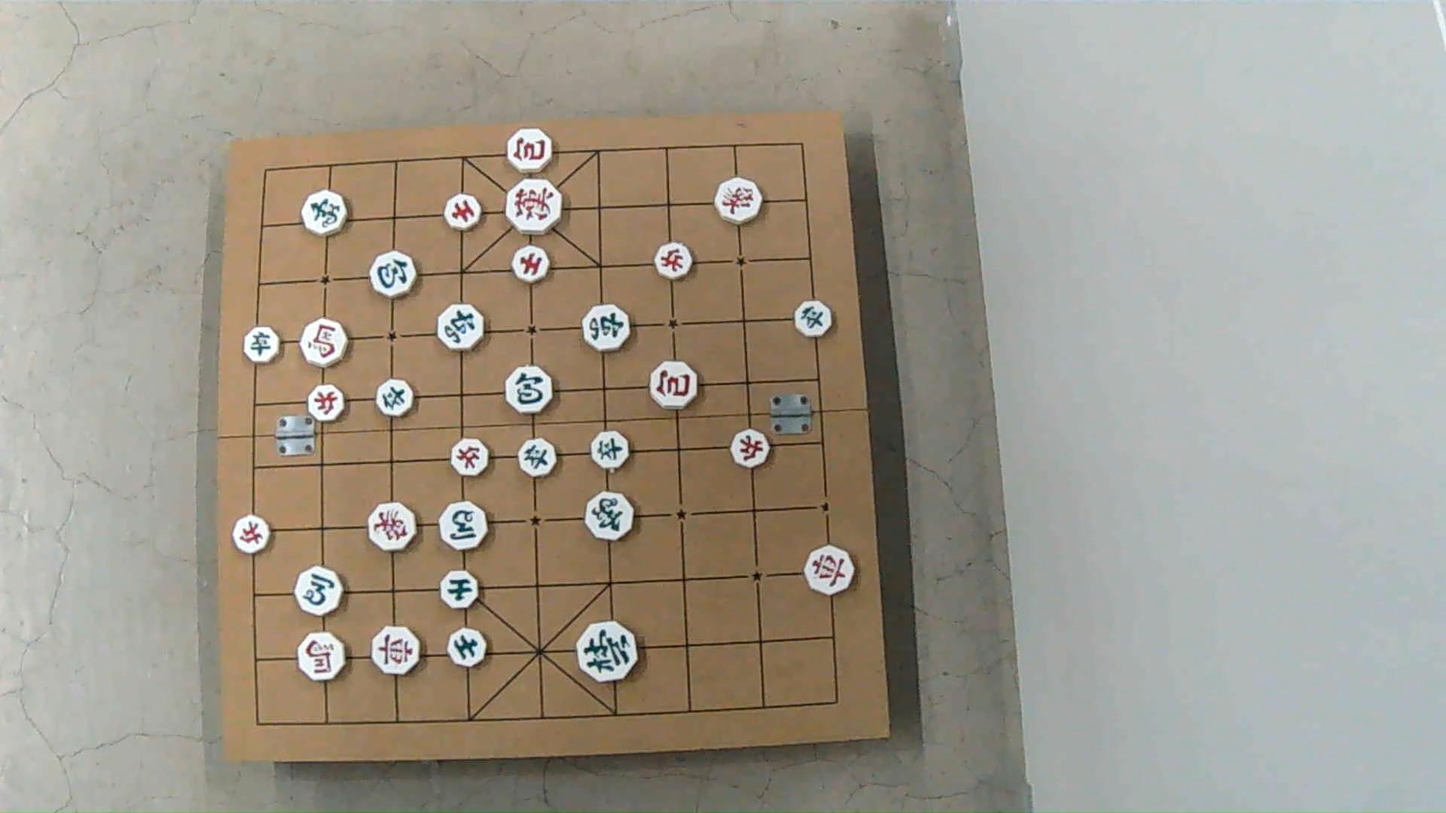cha_green: (585, 304, 633, 352), (438, 304, 486, 350)
cha_red: (805, 545, 854, 594), (373, 629, 422, 676)
jol_green: (593, 431, 631, 470), (520, 439, 558, 478), (377, 381, 413, 419), (795, 301, 832, 337), (243, 327, 279, 364)
jol_red: (229, 516, 267, 555), (452, 437, 490, 476), (654, 243, 693, 280), (731, 431, 767, 469), (308, 386, 343, 423)
ma_green: (293, 565, 344, 616), (441, 504, 489, 553)
ma_red: (300, 633, 347, 682), (301, 321, 347, 370)
po_green: (368, 250, 416, 298), (508, 366, 556, 413)
po_red: (648, 362, 697, 409), (509, 129, 555, 174)
sa_green: (449, 628, 488, 667), (443, 571, 481, 608)
sa_red: (445, 196, 482, 233), (512, 245, 549, 282)
sang_green: (586, 493, 634, 542), (303, 190, 348, 234)
sang_red: (369, 503, 416, 552), (717, 178, 763, 224)
wang_green: (578, 623, 639, 684)
wang_red: (507, 181, 563, 236)
